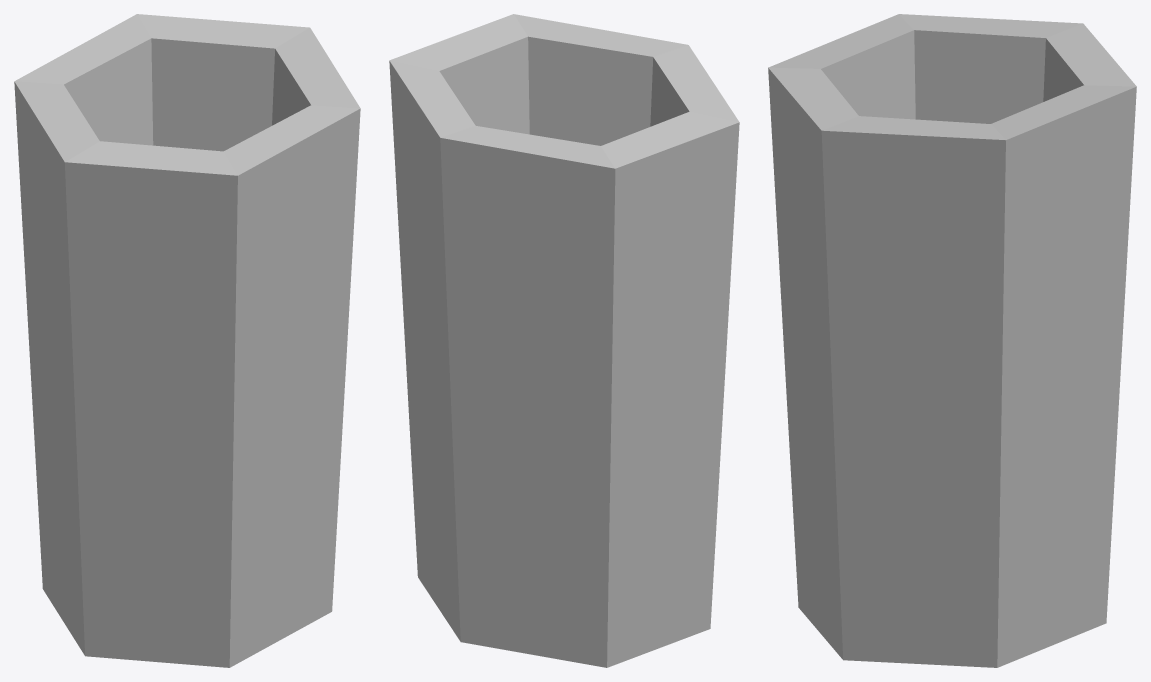
File: EA03_Items_House_Cup_01a.glb
3 renders of one model, left to right at view 1: azimuth 30°, elevation 25°; view 2: azimuth 150°, elevation 25°; view 3: azimuth 270°, elevation 25°, orthographic. The views are drawn at different scales.
Visible parts, largest first — view 1: EA03_Items_House_Cup_01a; view 2: EA03_Items_House_Cup_01a; view 3: EA03_Items_House_Cup_01a.
Boxes of the visible parts, box(x1,y1,x2,y2) form: EA03_Items_House_Cup_01a: box(14, 14, 360, 667); EA03_Items_House_Cup_01a: box(389, 14, 739, 667); EA03_Items_House_Cup_01a: box(768, 14, 1136, 667).
Size of the model in its own units: 0.1336 by 0.2284 by 0.1355.
1 material, 1 textured.
